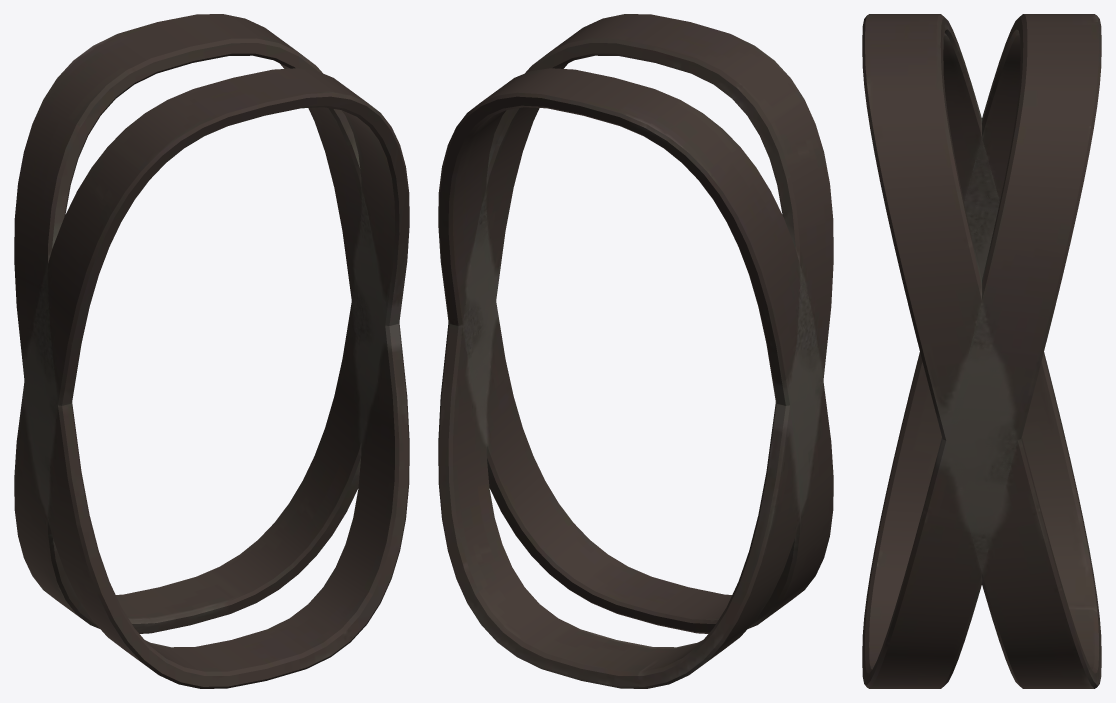
The model's file is elastico_ak.glb.
3 renders of one model, left to right at view 1: azimuth 30°, elevation 25°; view 2: azimuth 150°, elevation 25°; view 3: azimuth 270°, elevation 25°, orthographic. The views are drawn at different scales.
Parts seen in each view (by area): view 1: elastico_ak_elastico; view 2: elastico_ak_elastico; view 3: elastico_ak_elastico.
Part boxes in pixels (left/top/right/bottom): elastico_ak_elastico: left=14, top=14, right=409, bottom=688; elastico_ak_elastico: left=438, top=14, right=833, bottom=688; elastico_ak_elastico: left=862, top=14, right=1101, bottom=688.
Bounding box in the file's own units: 0.043 × 0.0696 × 0.0244.
Materials: 1 (1 with a texture image).
